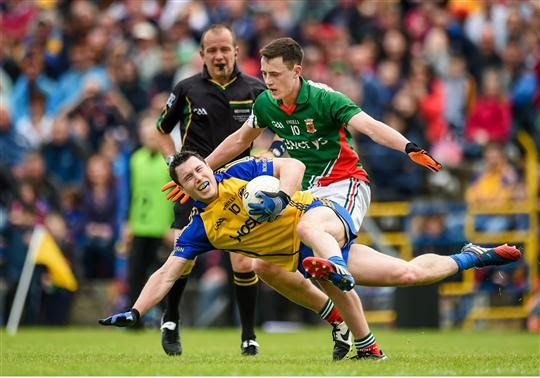ball: (241, 173, 285, 216)
player: (157, 147, 417, 305), (249, 31, 378, 207)
